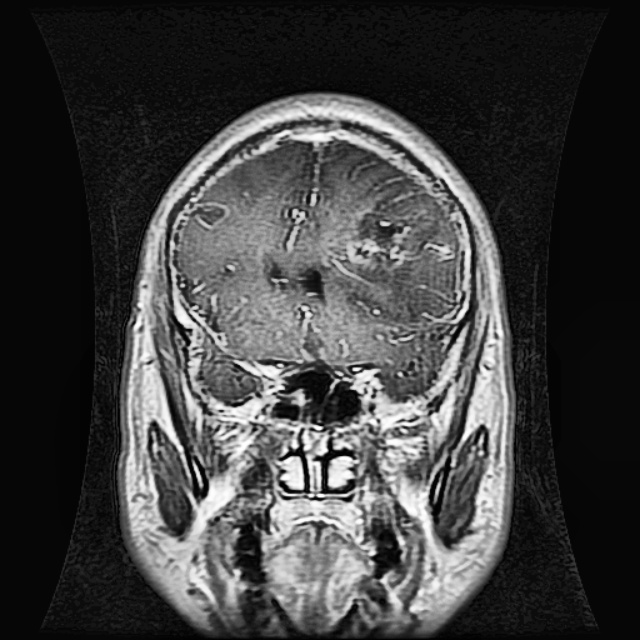Glioma: (332, 209, 412, 278)
